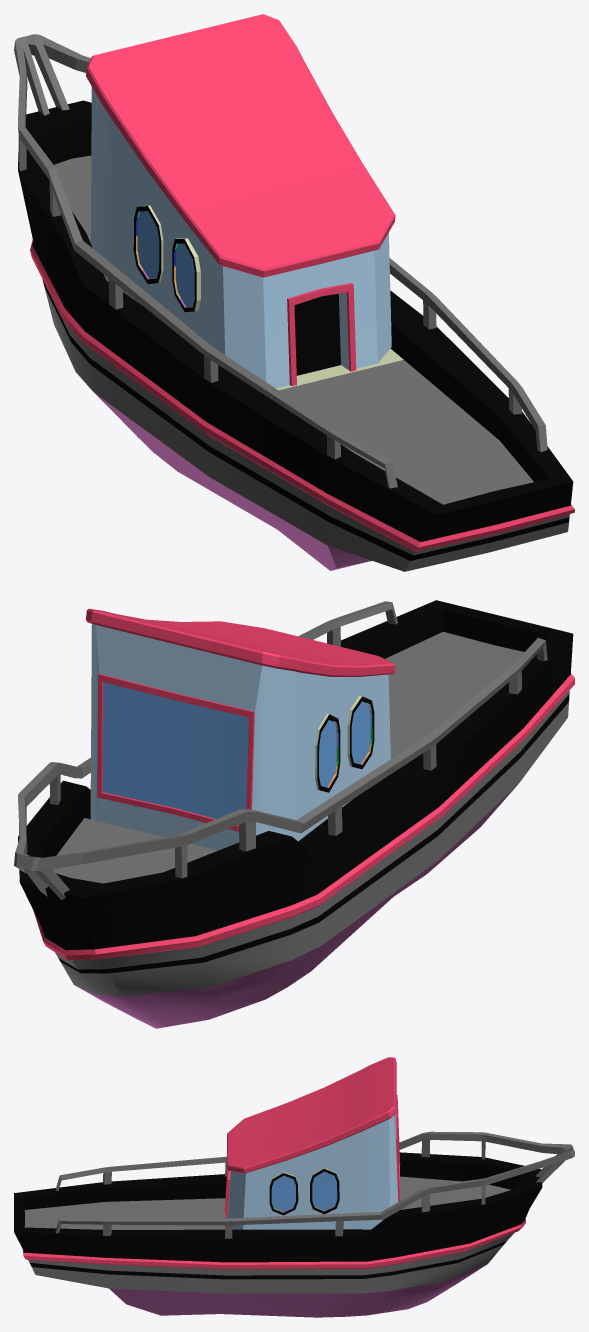
File: boat.fbx
3 views of the same model, one above another, from view 1: azimuth 30°, elevation 25°; view 2: azimuth 150°, elevation 25°; view 3: azimuth 270°, elevation 25° (orthographic). The views are drawn at different scales.
Parts seen in each view (by area): view 1: Plane.004; view 2: Plane.004; view 3: Plane.004.
Part boxes in pixels (left/top/right/bottom): Plane.004: left=14, top=14, right=574, bottom=571; Plane.004: left=14, top=600, right=574, bottom=1028; Plane.004: left=14, top=1057, right=574, bottom=1317.
Size of the model in its own units: 257 by 404 by 900.
